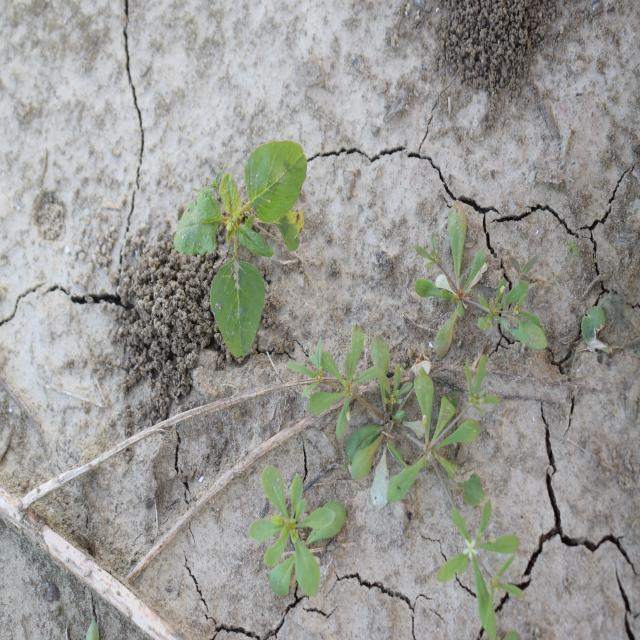Carpetweed: (285, 322, 526, 638), (413, 198, 550, 359), (247, 462, 348, 600)
PalmerAmaranth: (172, 139, 309, 360)
